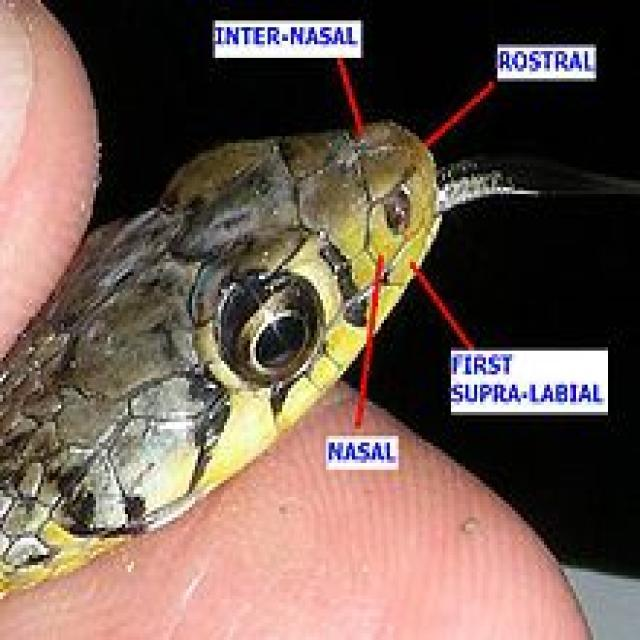Snake: (0, 109, 442, 576)
